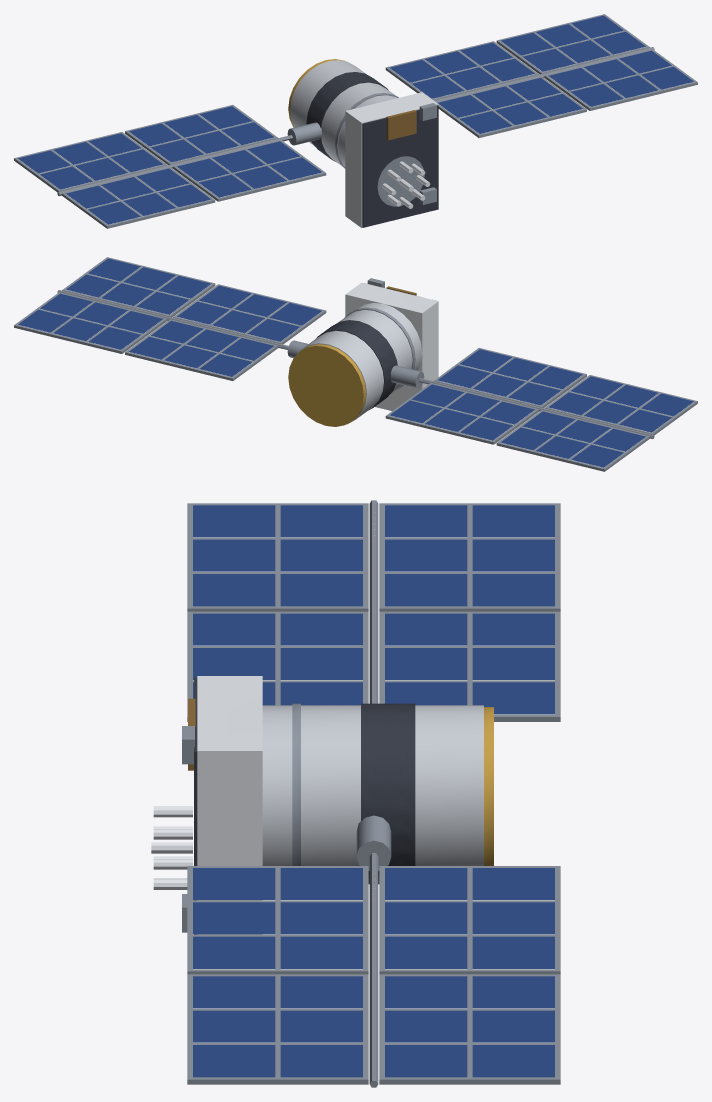
File: glonass-m.glb
The picture shows the model from 3 angles, top to bottom: view 1: azimuth 30°, elevation 25°; view 2: azimuth 150°, elevation 25°; view 3: azimuth 270°, elevation 25°; orthographic projection. The views are drawn at different scales.
Visible parts, largest first — view 1: solar-panel, body, foil; view 2: solar-panel, body, foil; view 3: solar-panel, body, foil.
Part boxes in pixels (x1,y1,x2,y2): solar-panel: [18, 15, 693, 224]; body: [14, 14, 697, 228]; foil: [288, 59, 416, 166]; solar-panel: [18, 258, 693, 467]; body: [14, 257, 697, 471]; foil: [288, 286, 422, 426]; solar-panel: [193, 505, 554, 1077]; body: [151, 500, 560, 1087]; foil: [188, 698, 493, 865].
Bounding box in the file's own units: 12.6 × 2.19 × 3.75.
